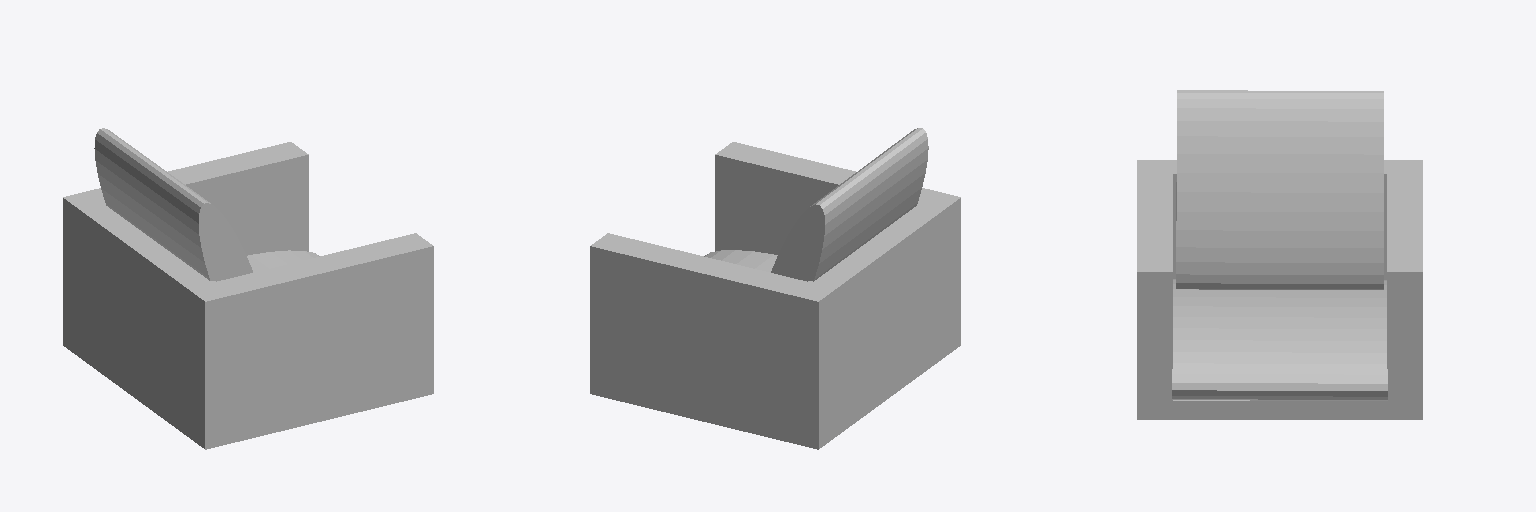
File: green sofa.obj
3 views of the same model, side by side, from view 1: azimuth 30°, elevation 25°; view 2: azimuth 150°, elevation 25°; view 3: azimuth 270°, elevation 25° (orthographic).
Parts seen in each view (by area): view 1: Cube_Cube.001; view 2: Cube_Cube.001; view 3: Cube_Cube.001.
Part boxes in pixels (x1,y1,x2,y2): Cube_Cube.001: (63,128,433,449); Cube_Cube.001: (590,128,960,449); Cube_Cube.001: (1137,90,1422,419).
Size of the model in its own units: 5.29 by 4.77 by 5.36.